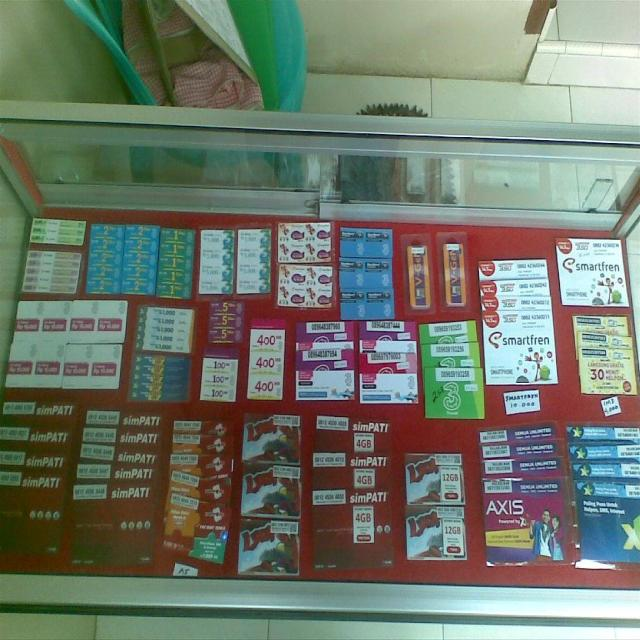Axis: (478, 429, 569, 564)
Gratis Nelpon: (574, 422, 640, 563)
Indosat: (12, 300, 120, 386), (419, 317, 484, 422), (339, 227, 396, 318), (296, 320, 355, 400), (360, 321, 416, 402), (26, 248, 80, 294), (126, 221, 158, 297), (160, 226, 192, 296), (91, 223, 122, 292), (210, 300, 247, 346), (31, 218, 85, 246)
SimpaTI: (312, 412, 394, 573), (80, 406, 161, 562), (1, 396, 75, 551)
V-GEN: (438, 229, 469, 308), (403, 230, 432, 310)
smartfren: (481, 260, 557, 387), (557, 237, 627, 308)
